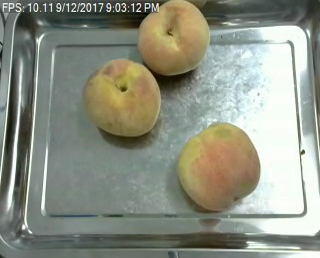Peach: (177, 120, 261, 211), (82, 58, 163, 138), (137, 0, 209, 77)
